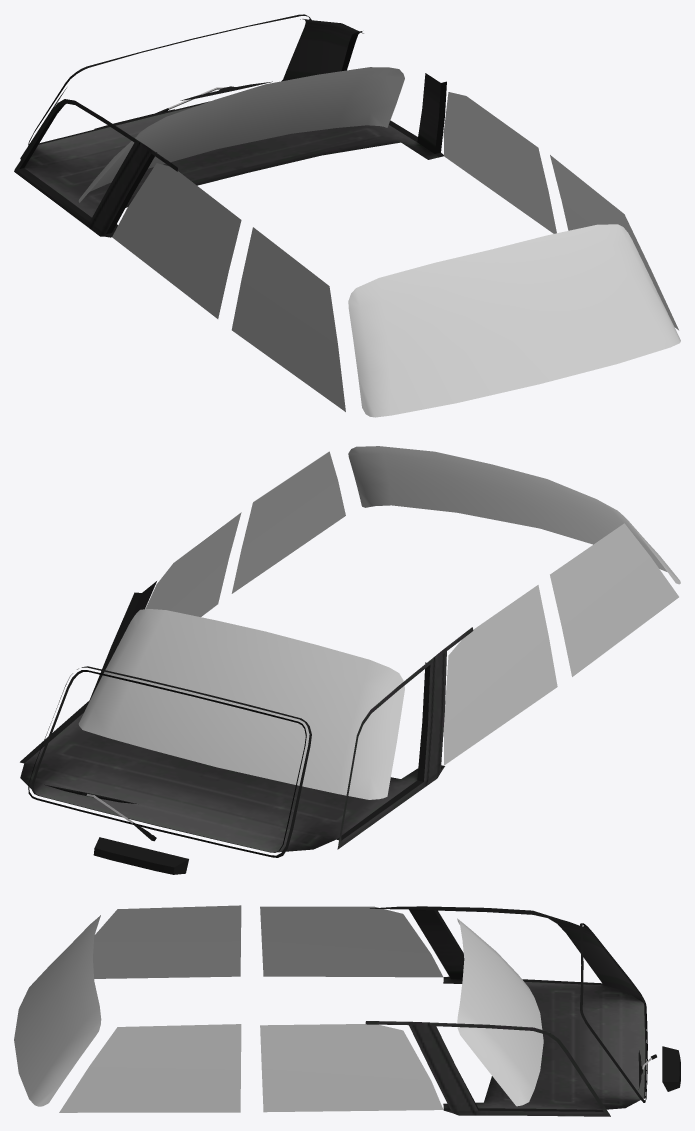
The model's file is riva.fbx.
3 renders of one model, top to bottom at view 1: azimuth 30°, elevation 25°; view 2: azimuth 150°, elevation 25°; view 3: azimuth 270°, elevation 25°, orthographic. The views are drawn at different scales.
Parts seen in each view (by area): view 1: Defaultpart 01, Sedan1 01, Combi 01; view 2: Sedan1 01, Combi 01, Defaultpart 01; view 3: Sedan1 01, Defaultpart 01, Combi 01.
Boxes of the visible parts, x1,y1,x2,y2 form: Defaultpart 01: (231, 155, 680, 417); Sedan1 01: (78, 67, 556, 318); Combi 01: (14, 14, 446, 237); Sedan1 01: (78, 512, 557, 799); Combi 01: (20, 581, 473, 874); Defaultpart 01: (231, 446, 680, 676); Sedan1 01: (260, 906, 543, 1112); Defaultpart 01: (14, 905, 241, 1112); Combi 01: (365, 906, 680, 1116).
Size of the model in its own units: 1.38 by 0.5852 by 2.86.
